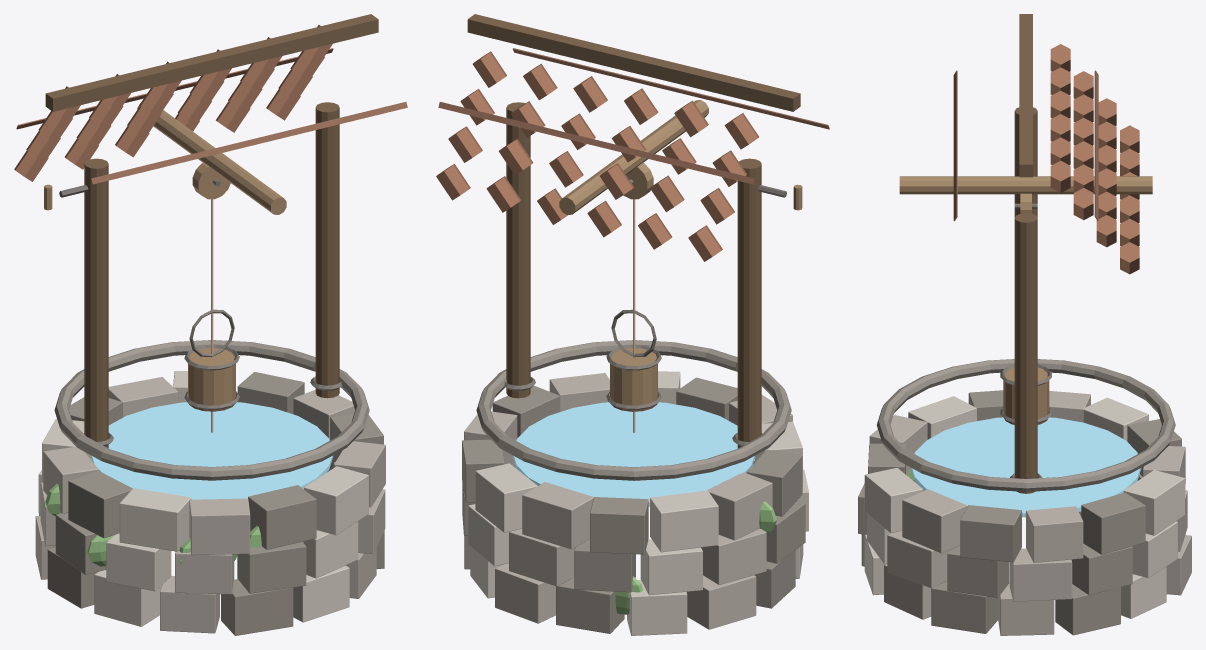
Rendered from well_v2.glb.
3 renders of one model, left to right at view 1: azimuth 30°, elevation 25°; view 2: azimuth 150°, elevation 25°; view 3: azimuth 270°, elevation 25°, orthographic. The views are drawn at different scales.
Visible parts, largest first — view 1: well_v2; view 2: well_v2; view 3: well_v2.
Part boxes in pixels (<box>): well_v2: <box>14,14,407,635</box>; well_v2: <box>436,14,829,635</box>; well_v2: <box>858,14,1191,635</box>.
Size of the model in its own units: 1.57 by 2.3 by 1.45.
